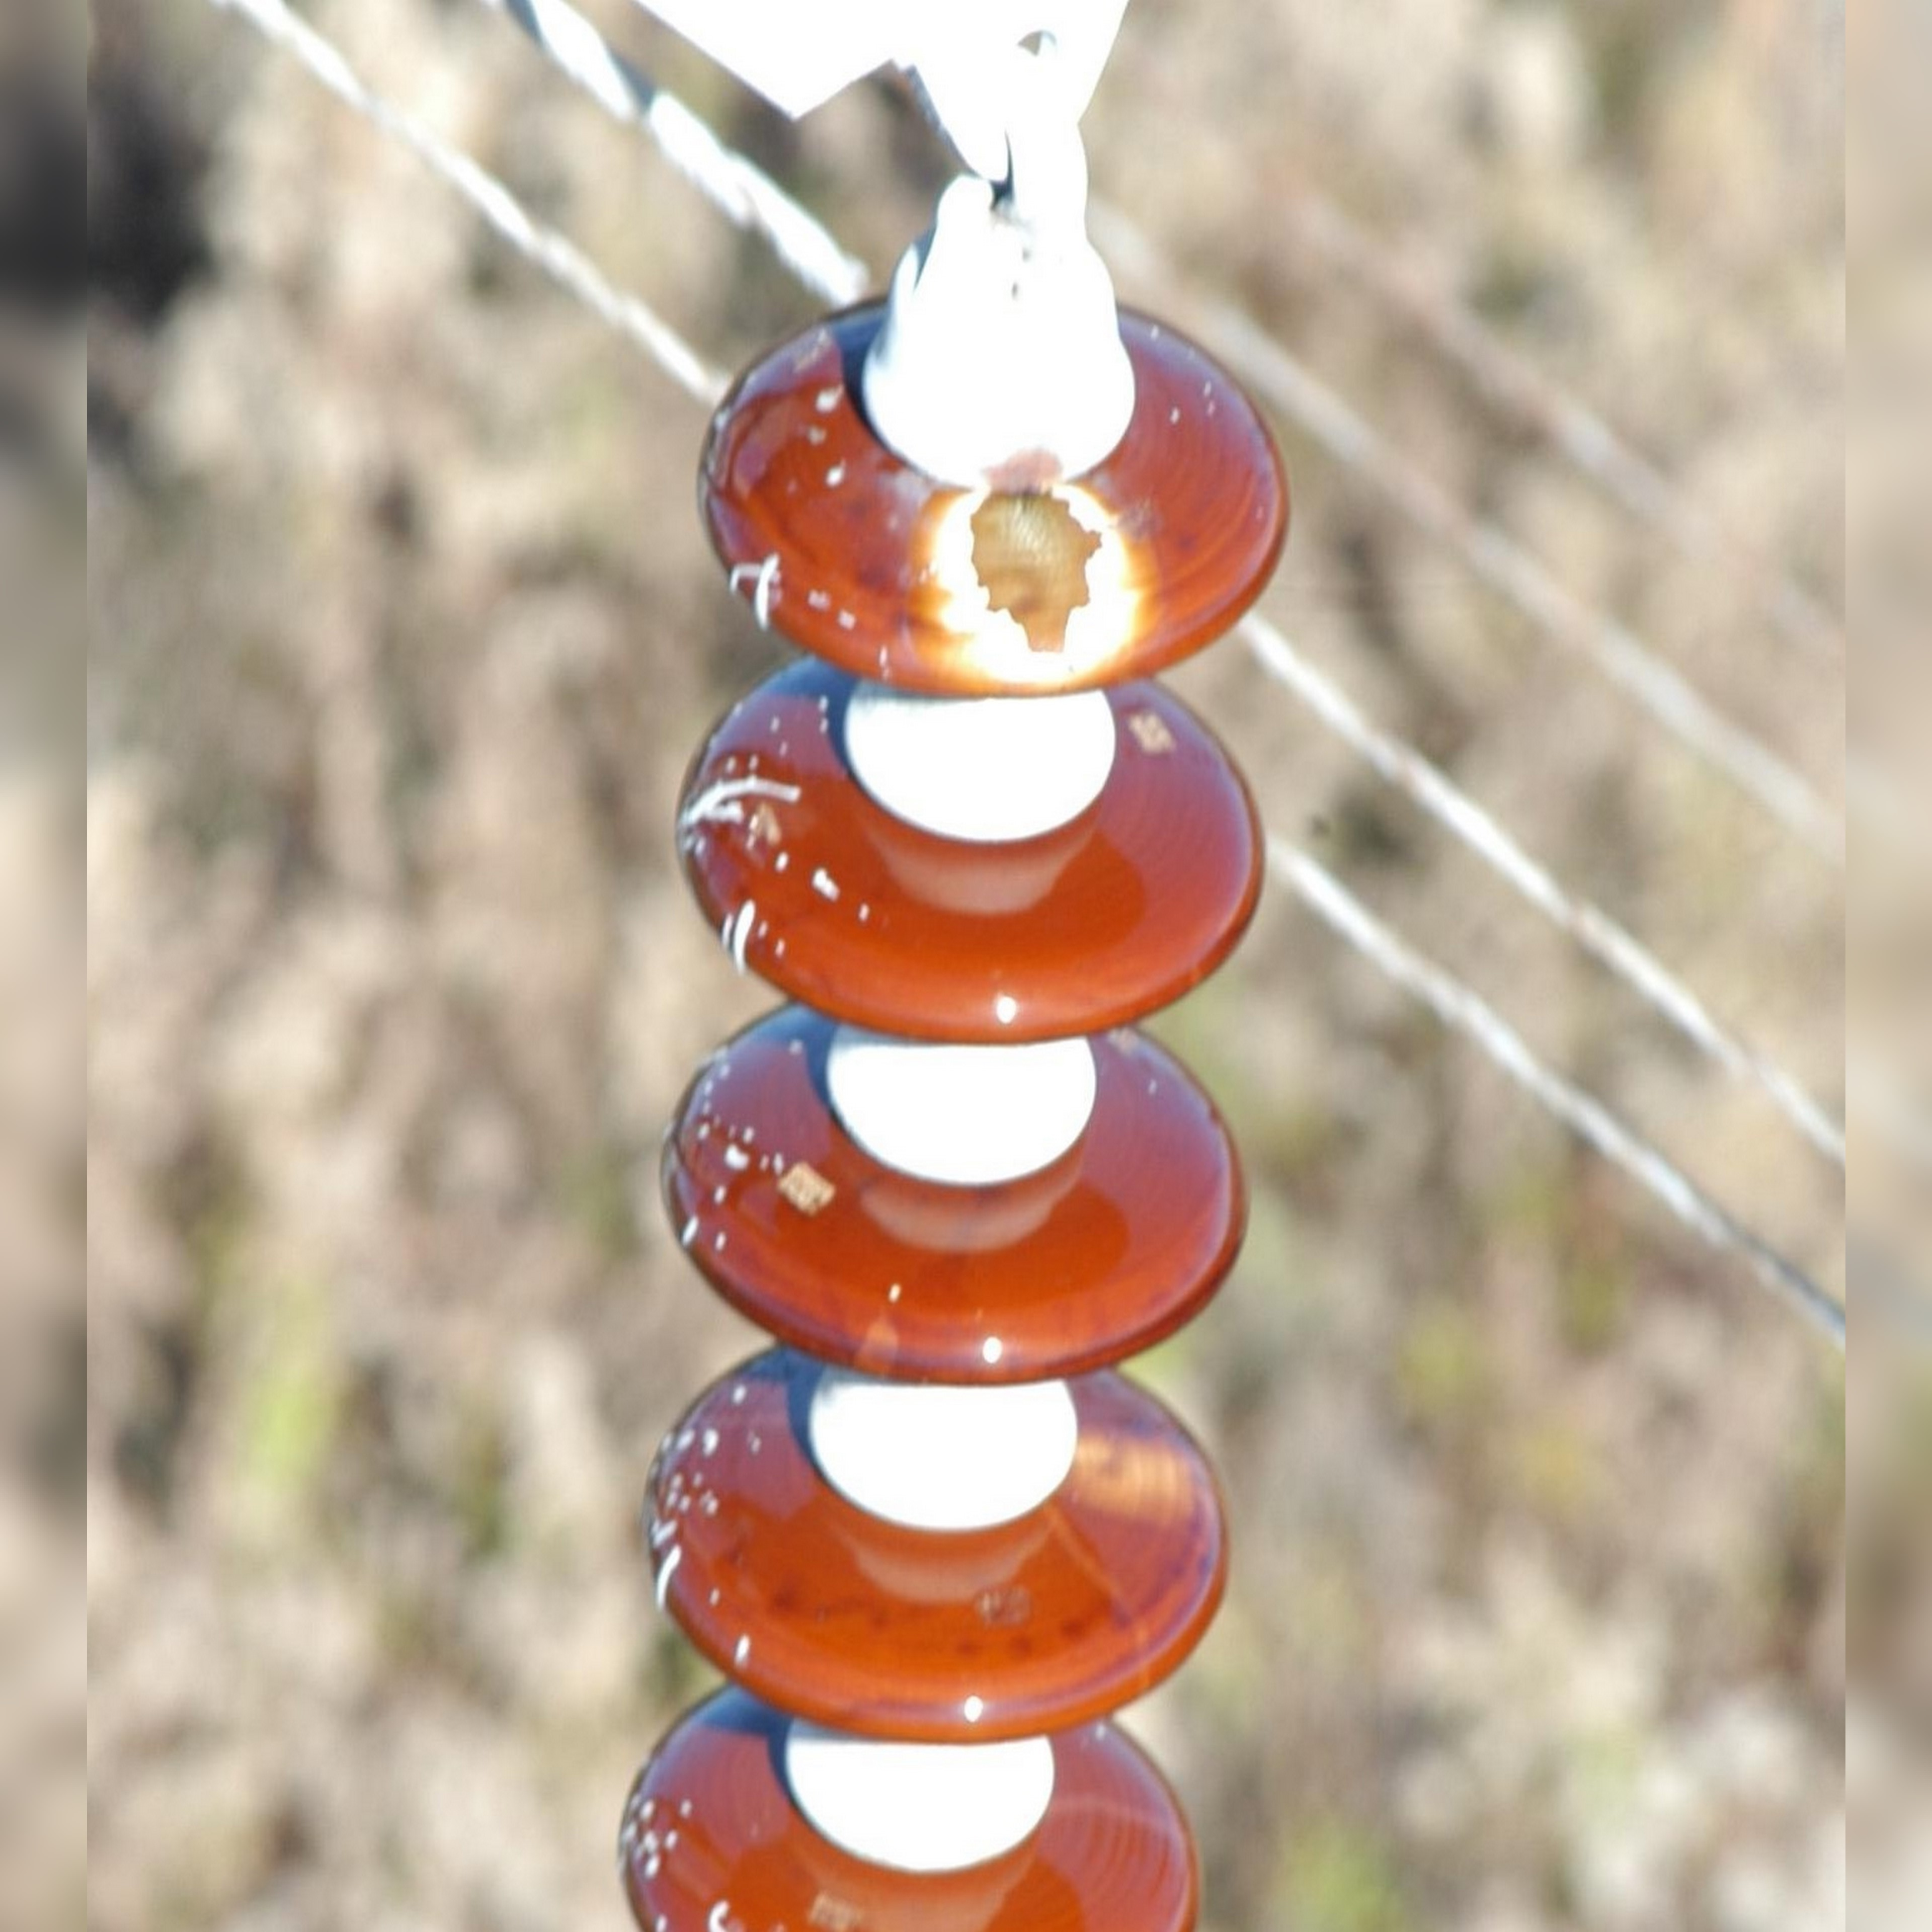Insulator flashover: (690, 292, 1327, 701)
